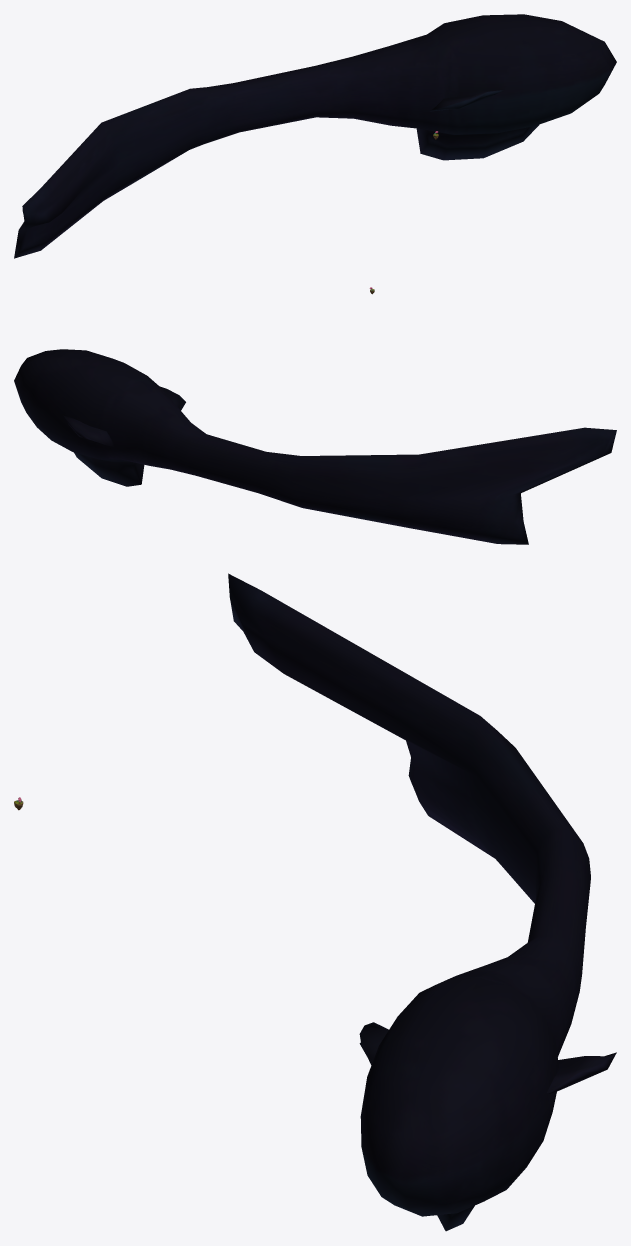
Rendered from space_island.obj.
The picture shows the model from 3 angles, top to bottom: view 1: azimuth 30°, elevation 25°; view 2: azimuth 150°, elevation 25°; view 3: azimuth 270°, elevation 25°; orthographic projection. The views are drawn at different scales.
Visible parts, largest first — view 1: Object_32; view 2: Object_32; view 3: Object_32.
Part boxes in pixels (x1,y1,x2,y2): Object_32: (14, 14, 616, 258); Object_32: (14, 349, 616, 544); Object_32: (228, 573, 616, 1231).
Size of the model in its own units: 1723 by 432 by 843.
